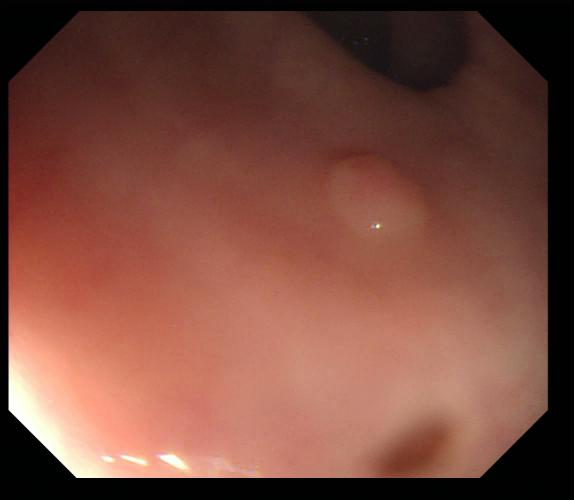polyp: (325, 152, 436, 255)
